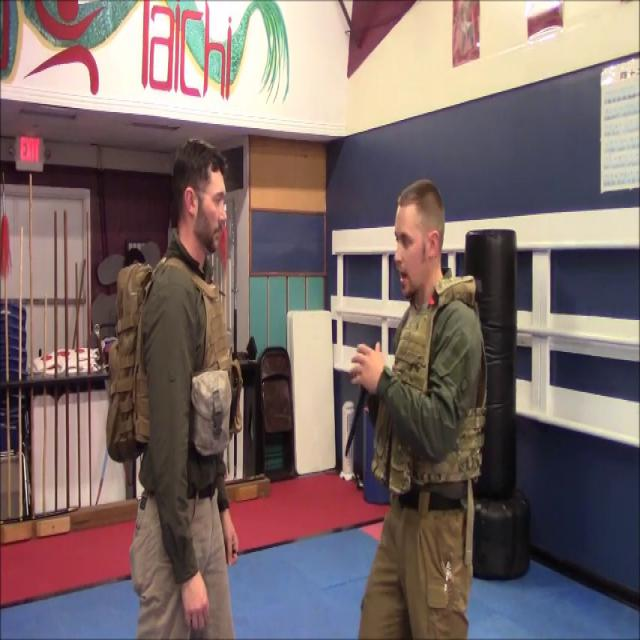knife: (335, 346, 385, 452)
